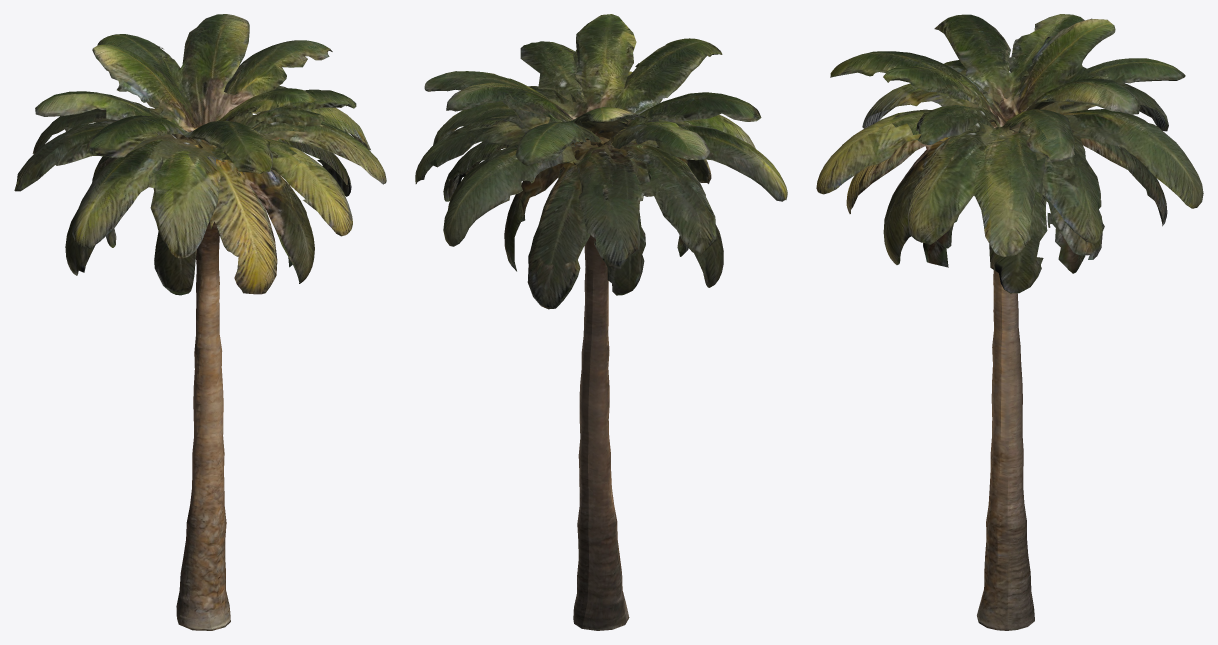
File: palm__date-palm-joeogles.glb
3 views of the same model, side by side, from view 1: azimuth 30°, elevation 25°; view 2: azimuth 150°, elevation 25°; view 3: azimuth 270°, elevation 25° (orthographic). The views are drawn at different scales.
Bounding box in the file's own units: 1.21 × 2 × 1.23.
1 material, 1 textured.
